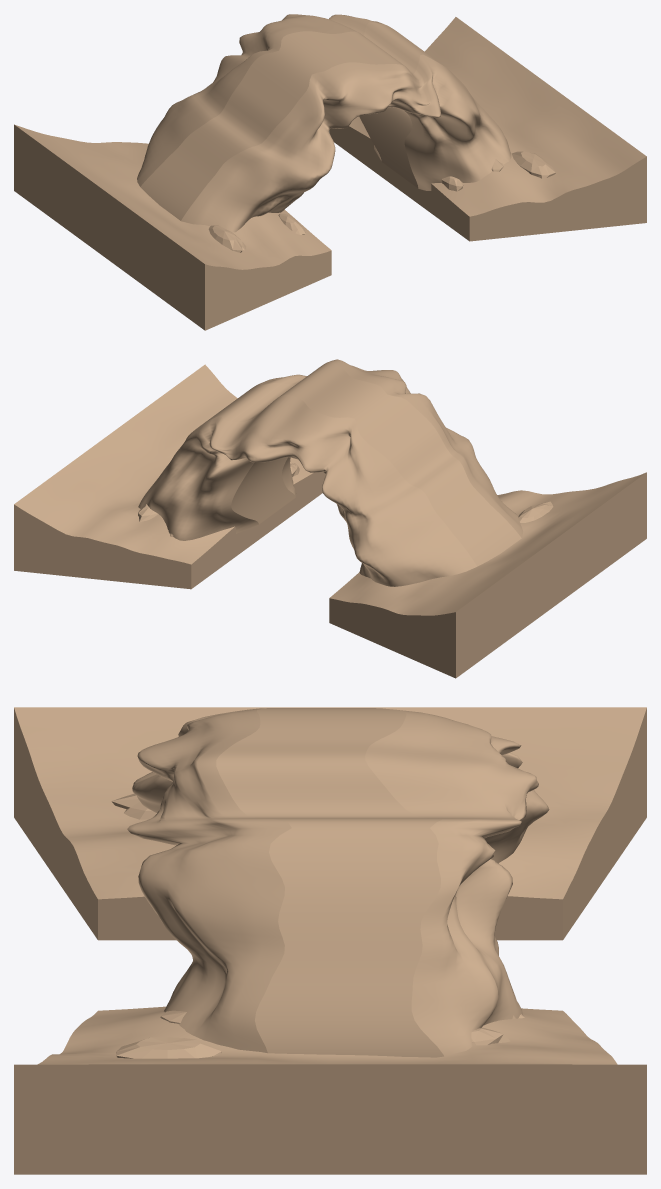
The model's file is RibTunnelWall.obj.
3 views of the same model, one above another, from view 1: azimuth 30°, elevation 25°; view 2: azimuth 150°, elevation 25°; view 3: azimuth 270°, elevation 25° (orthographic). The views are drawn at different scales.
Visible parts, largest first — view 1: RibTunnelWall_HD; view 2: RibTunnelWall_HD; view 3: RibTunnelWall_HD.
Boxes of the visible parts, x1,y1,x2,y2 form: RibTunnelWall_HD: (14,14,646,330); RibTunnelWall_HD: (14,359,646,678); RibTunnelWall_HD: (14,707,646,1174).
Size of the model in its own units: 6.54 by 2.28 by 4.9.
